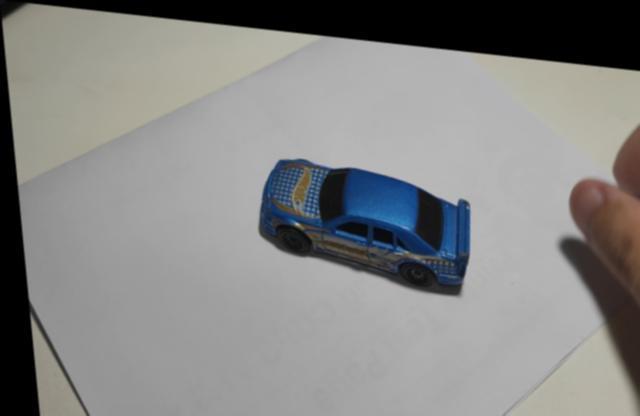04_MERZEDES: (254, 153, 468, 288)
